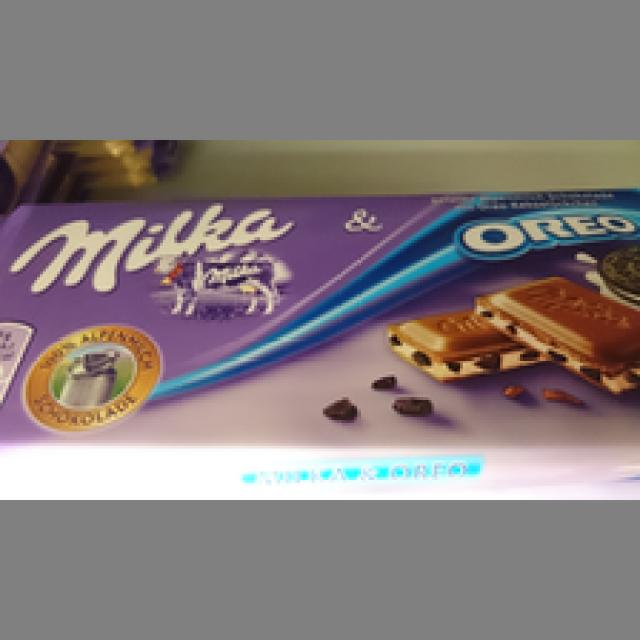groceries: (0, 200, 634, 440)
